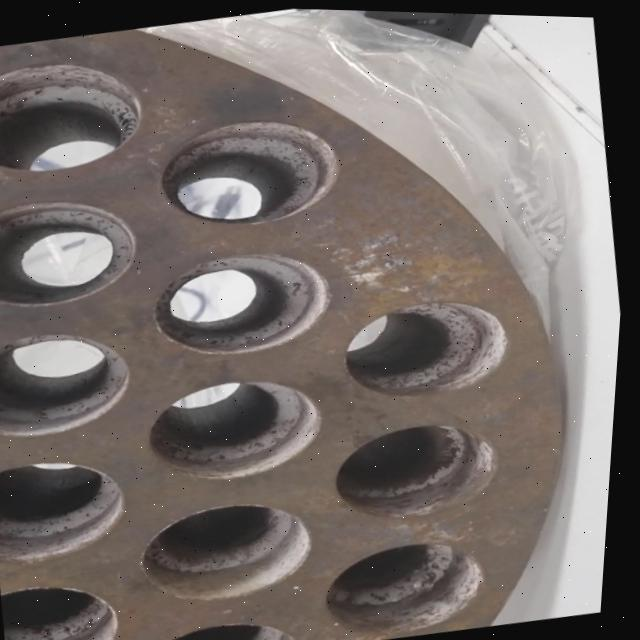Hole: (151, 104, 350, 239), (146, 237, 343, 368), (143, 366, 337, 492), (138, 489, 329, 614), (337, 286, 523, 407), (331, 410, 513, 528), (0, 49, 151, 187), (322, 529, 500, 640), (0, 187, 147, 318), (0, 320, 145, 446), (0, 449, 141, 569), (5, 574, 136, 640), (137, 610, 311, 640)
